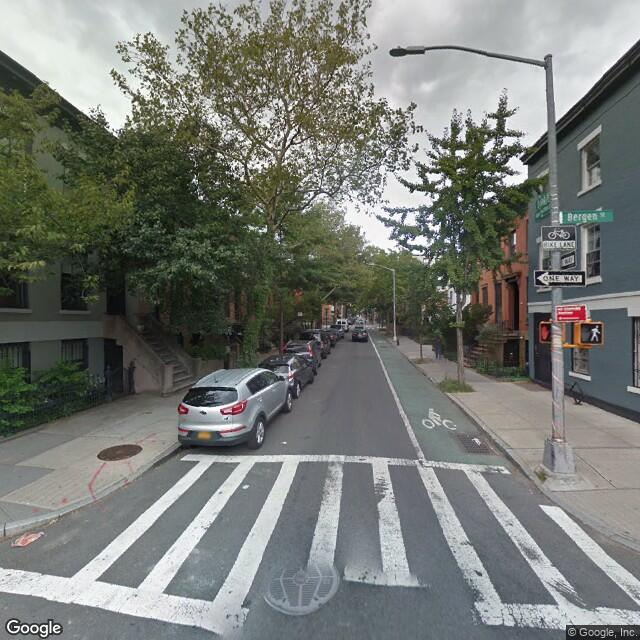litter: (11, 525, 47, 544)
